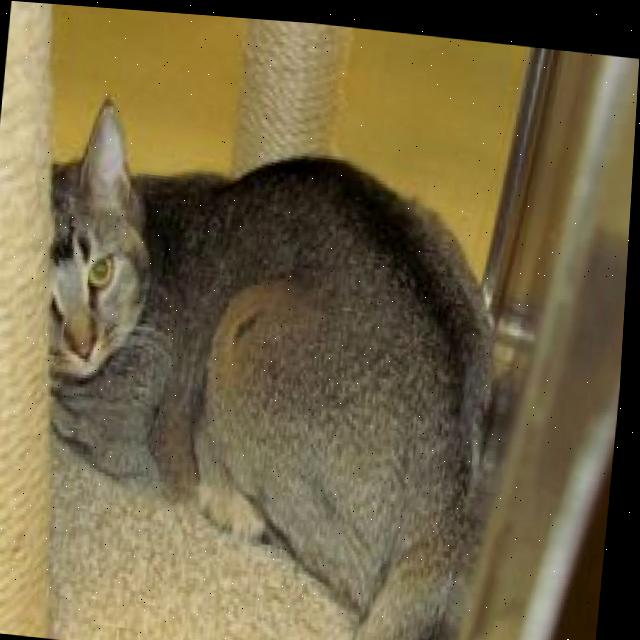Abyssinian: (0, 77, 523, 640)
